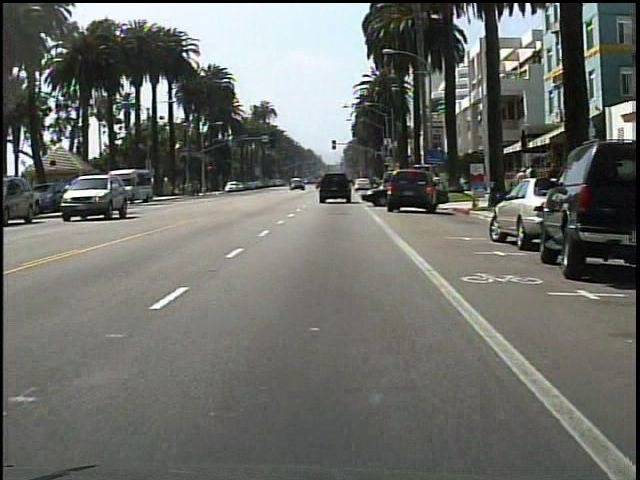person: (368, 171, 384, 204), (514, 163, 534, 189)
